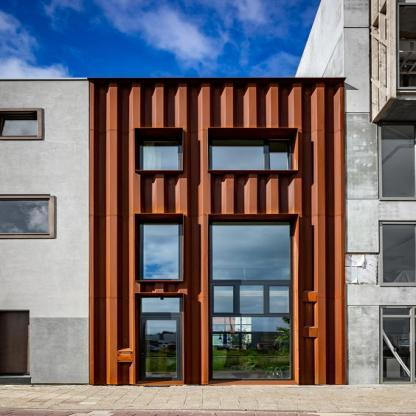Building Outline: (87, 77, 347, 386)
Door: (141, 315, 180, 380)
Facade: (87, 77, 347, 386)
Floor Slab: (87, 213, 347, 218), (87, 292, 347, 297)
Glass Wall: (213, 223, 291, 378)
Pillar: (110, 82, 116, 385), (318, 81, 324, 384), (294, 81, 301, 128), (249, 81, 256, 128), (156, 81, 163, 128), (295, 173, 302, 214), (250, 173, 257, 214), (156, 173, 163, 214), (133, 81, 139, 128), (227, 81, 233, 128), (272, 81, 278, 128), (134, 173, 140, 214), (227, 173, 233, 214), (272, 173, 278, 214)
Window: (208, 214, 298, 384), (135, 293, 184, 385), (208, 128, 298, 170), (135, 213, 184, 281), (210, 140, 292, 170), (135, 128, 184, 170), (141, 224, 178, 279), (141, 140, 178, 170), (141, 297, 180, 312)
